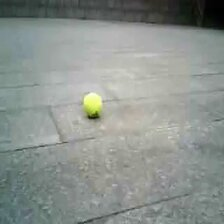tennis: (83, 92, 103, 116)
